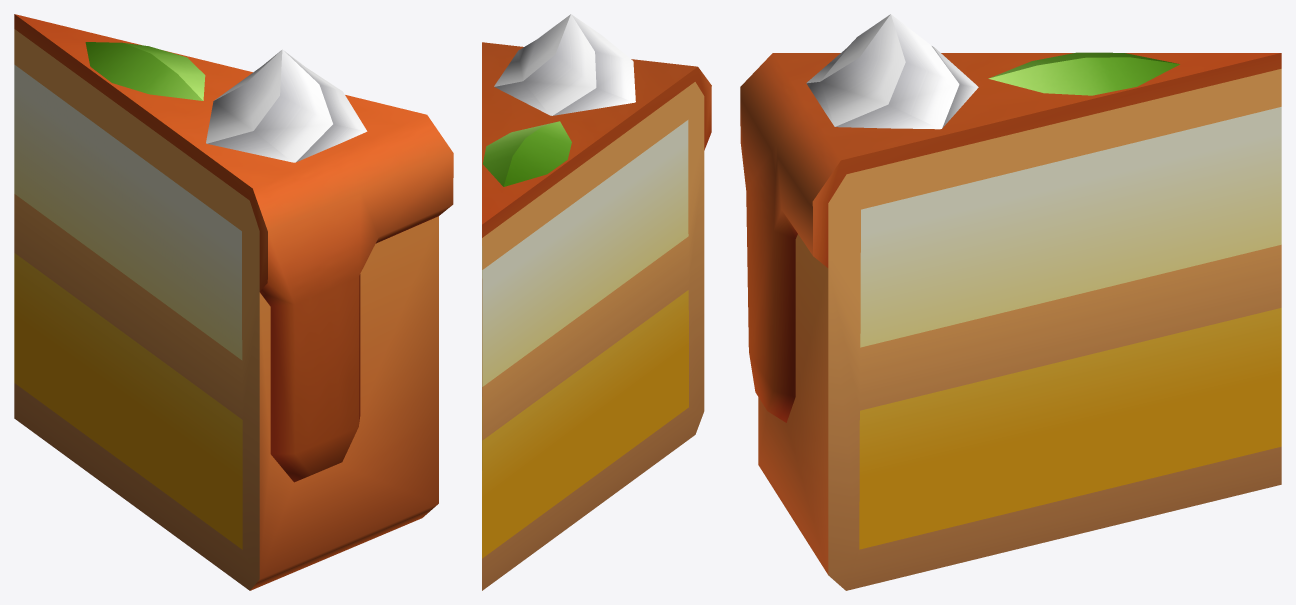
Rendered from m_OrangeCake01_Slice02.fbx.
3 views of the same model, side by side, from view 1: azimuth 30°, elevation 25°; view 2: azimuth 150°, elevation 25°; view 3: azimuth 270°, elevation 25° (orthographic). The views are drawn at different scales.
Parts seen in each view (by area): view 1: m_OrangeCake01_Slice02; view 2: m_OrangeCake01_Slice02; view 3: m_OrangeCake01_Slice02.
Boxes of the visible parts, x1,y1,x2,y2 form: m_OrangeCake01_Slice02: [14, 14, 453, 590]; m_OrangeCake01_Slice02: [482, 14, 711, 590]; m_OrangeCake01_Slice02: [740, 14, 1281, 590].
Size of the model in its own units: 6.52 by 13.68 by 13.04.
